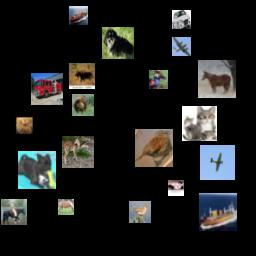airplane: (200, 145, 235, 180), (172, 37, 191, 56)
automobile: (172, 10, 191, 29)
bird: (135, 129, 173, 167), (129, 201, 151, 223), (149, 70, 168, 89)
cat: (182, 106, 217, 141), (15, 116, 34, 135), (168, 180, 184, 196)
deer: (62, 136, 94, 168), (69, 63, 95, 89), (72, 94, 94, 116)
dog: (18, 151, 56, 189), (102, 27, 134, 59)
ship: (199, 193, 237, 231), (69, 6, 88, 25)
truck: (31, 73, 63, 105)
